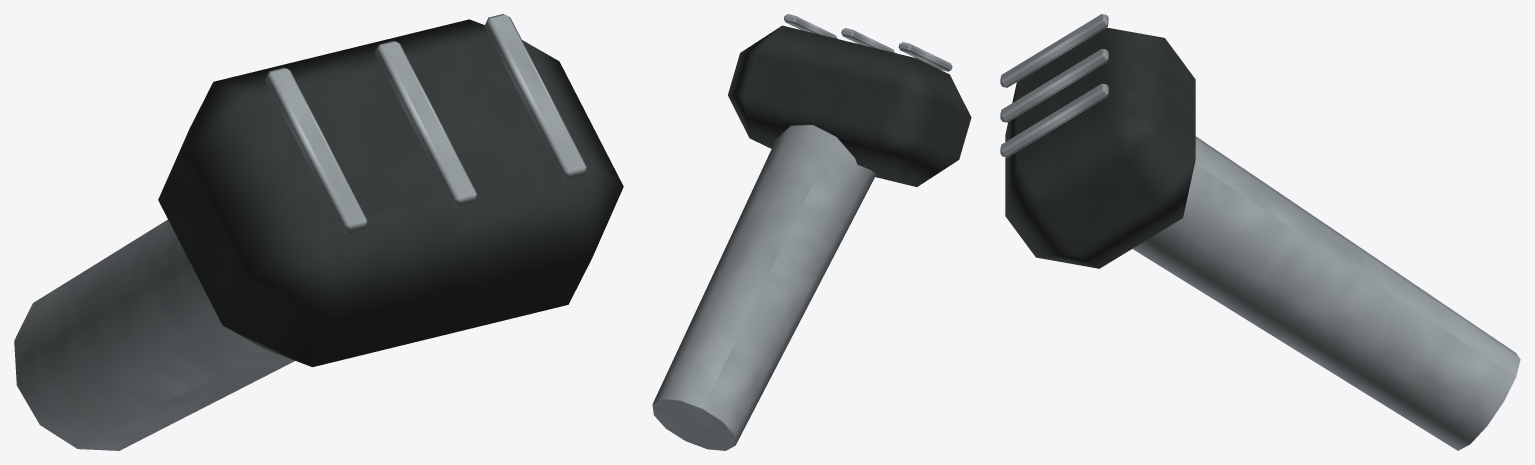
File: prop_vent_fan.fbx
3 renders of one model, left to right at view 1: azimuth 30°, elevation 25°; view 2: azimuth 150°, elevation 25°; view 3: azimuth 270°, elevation 25°, orthographic. The views are drawn at different scales.
Parts seen in each view (by area): view 1: SM_prop_vent_fan; view 2: SM_prop_vent_fan; view 3: SM_prop_vent_fan.
Boxes of the visible parts, box(x1,y1,x2,y2) form: SM_prop_vent_fan: box(14, 14, 623, 450); SM_prop_vent_fan: box(652, 14, 971, 450); SM_prop_vent_fan: box(1000, 14, 1520, 450).
Bounding box in the file's own units: 0.031 × 0.0474 × 0.0569.
Materials: 2 (2 with a texture image).
